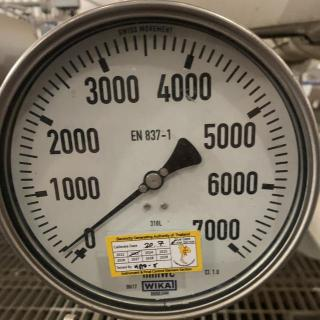gauge: (0, 0, 320, 320), (200, 218, 252, 266), (63, 228, 101, 268), (144, 169, 164, 191), (58, 240, 74, 257)
